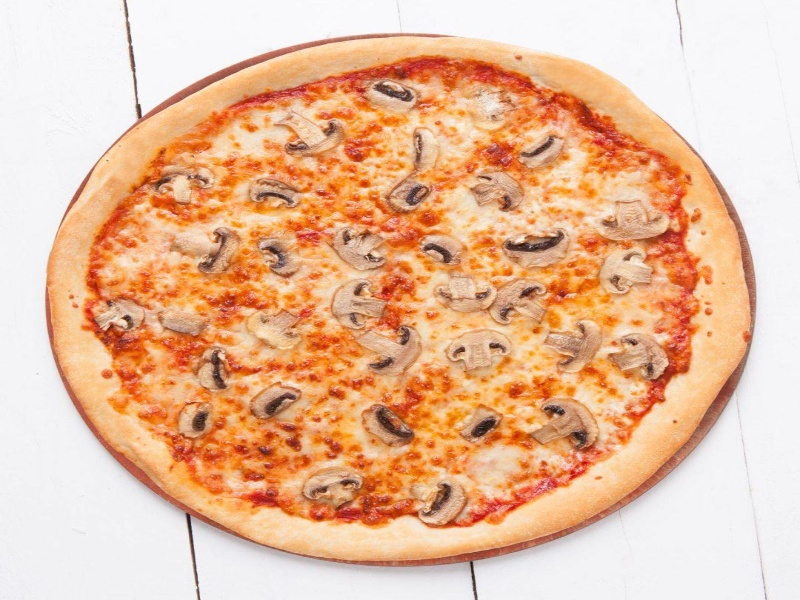champignon: (529, 393, 604, 461), (591, 192, 673, 247), (543, 311, 611, 376), (350, 325, 429, 380), (608, 326, 672, 387), (463, 170, 535, 221), (274, 111, 349, 159), (328, 278, 392, 332), (297, 467, 376, 510), (501, 223, 573, 270), (328, 223, 390, 277), (242, 303, 307, 354), (150, 161, 219, 209), (593, 250, 659, 299), (188, 226, 250, 278), (358, 405, 431, 449), (442, 331, 517, 373), (86, 294, 155, 339), (431, 275, 498, 319), (491, 278, 552, 325), (363, 70, 425, 116), (412, 477, 469, 527), (193, 344, 242, 397), (515, 125, 570, 172), (381, 174, 441, 217), (255, 234, 310, 279), (171, 396, 220, 446), (247, 380, 305, 422), (242, 178, 308, 213)
